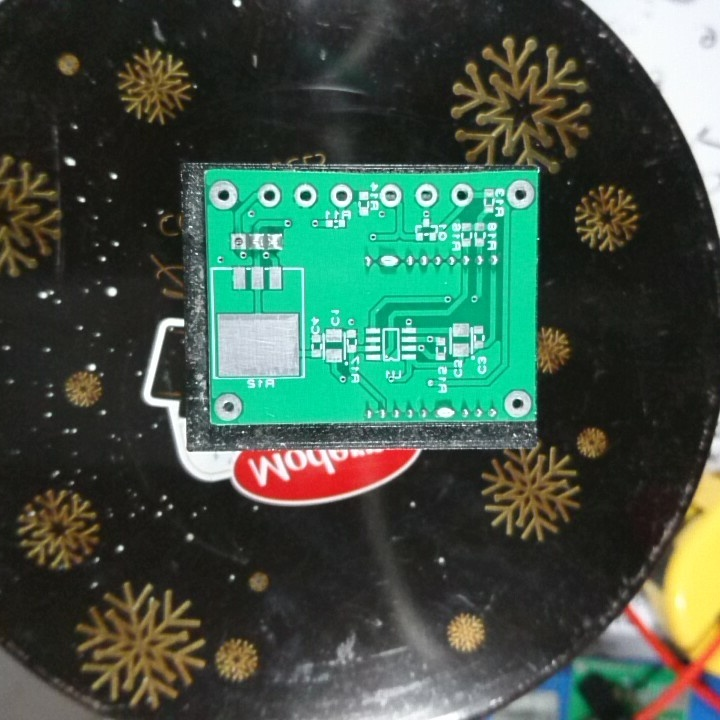F: (207, 179, 241, 213), (213, 390, 246, 422), (501, 389, 536, 419), (411, 180, 444, 211), (503, 179, 534, 211), (290, 183, 321, 212), (449, 182, 476, 211), (327, 182, 354, 211), (378, 181, 404, 211), (257, 183, 283, 209), (228, 233, 249, 252)
P: (376, 252, 401, 273), (433, 404, 457, 421)
